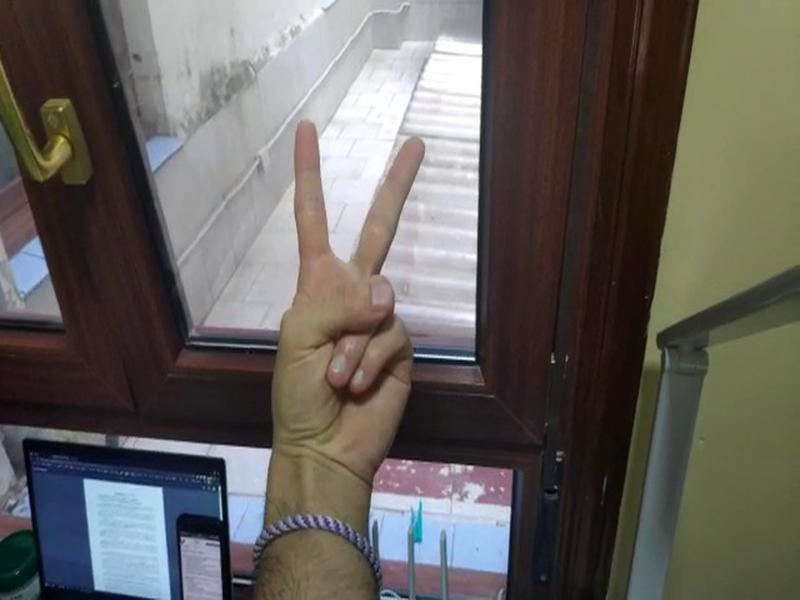Peace: (270, 107, 436, 446)
